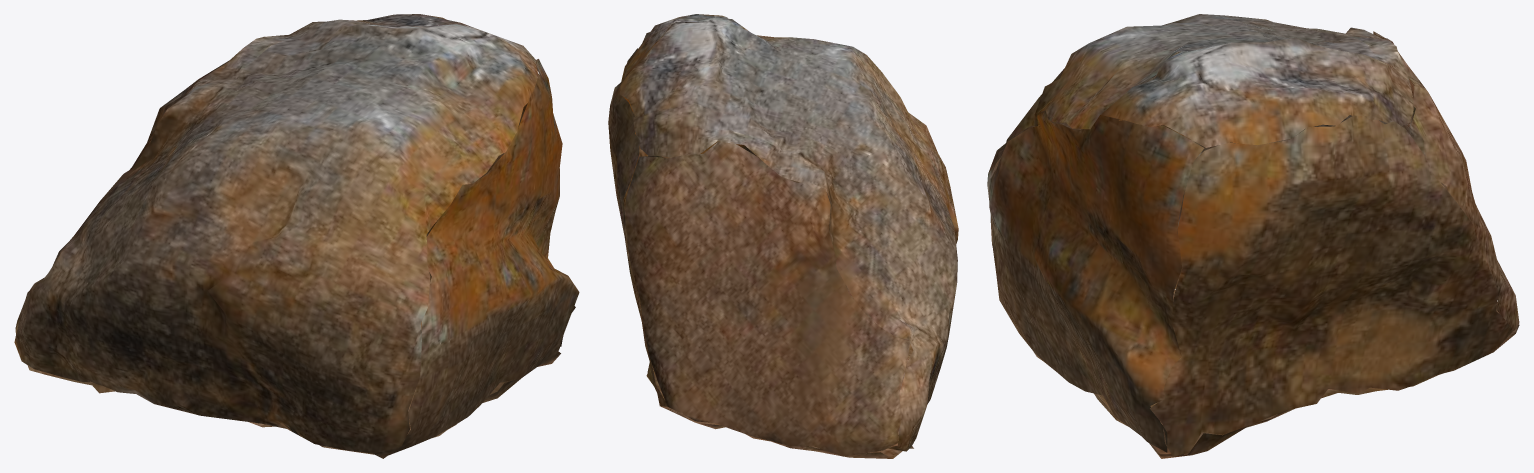
Rendered from namaqualand_boulder_04_lod1.glb.
3 views of the same model, side by side, from view 1: azimuth 30°, elevation 25°; view 2: azimuth 150°, elevation 25°; view 3: azimuth 270°, elevation 25° (orthographic). The views are drawn at different scales.
Visible parts, largest first — view 1: boulder_04; view 2: boulder_04; view 3: boulder_04.
Boxes of the visible parts, left/top/right/bottom form: boulder_04: left=14, top=14, right=579, bottom=458; boulder_04: left=608, top=14, right=958, bottom=458; boulder_04: left=987, top=14, right=1519, bottom=458.
Bounding box in the file's own units: 2.52 × 1.88 × 2.48.
1 material, 1 textured.
